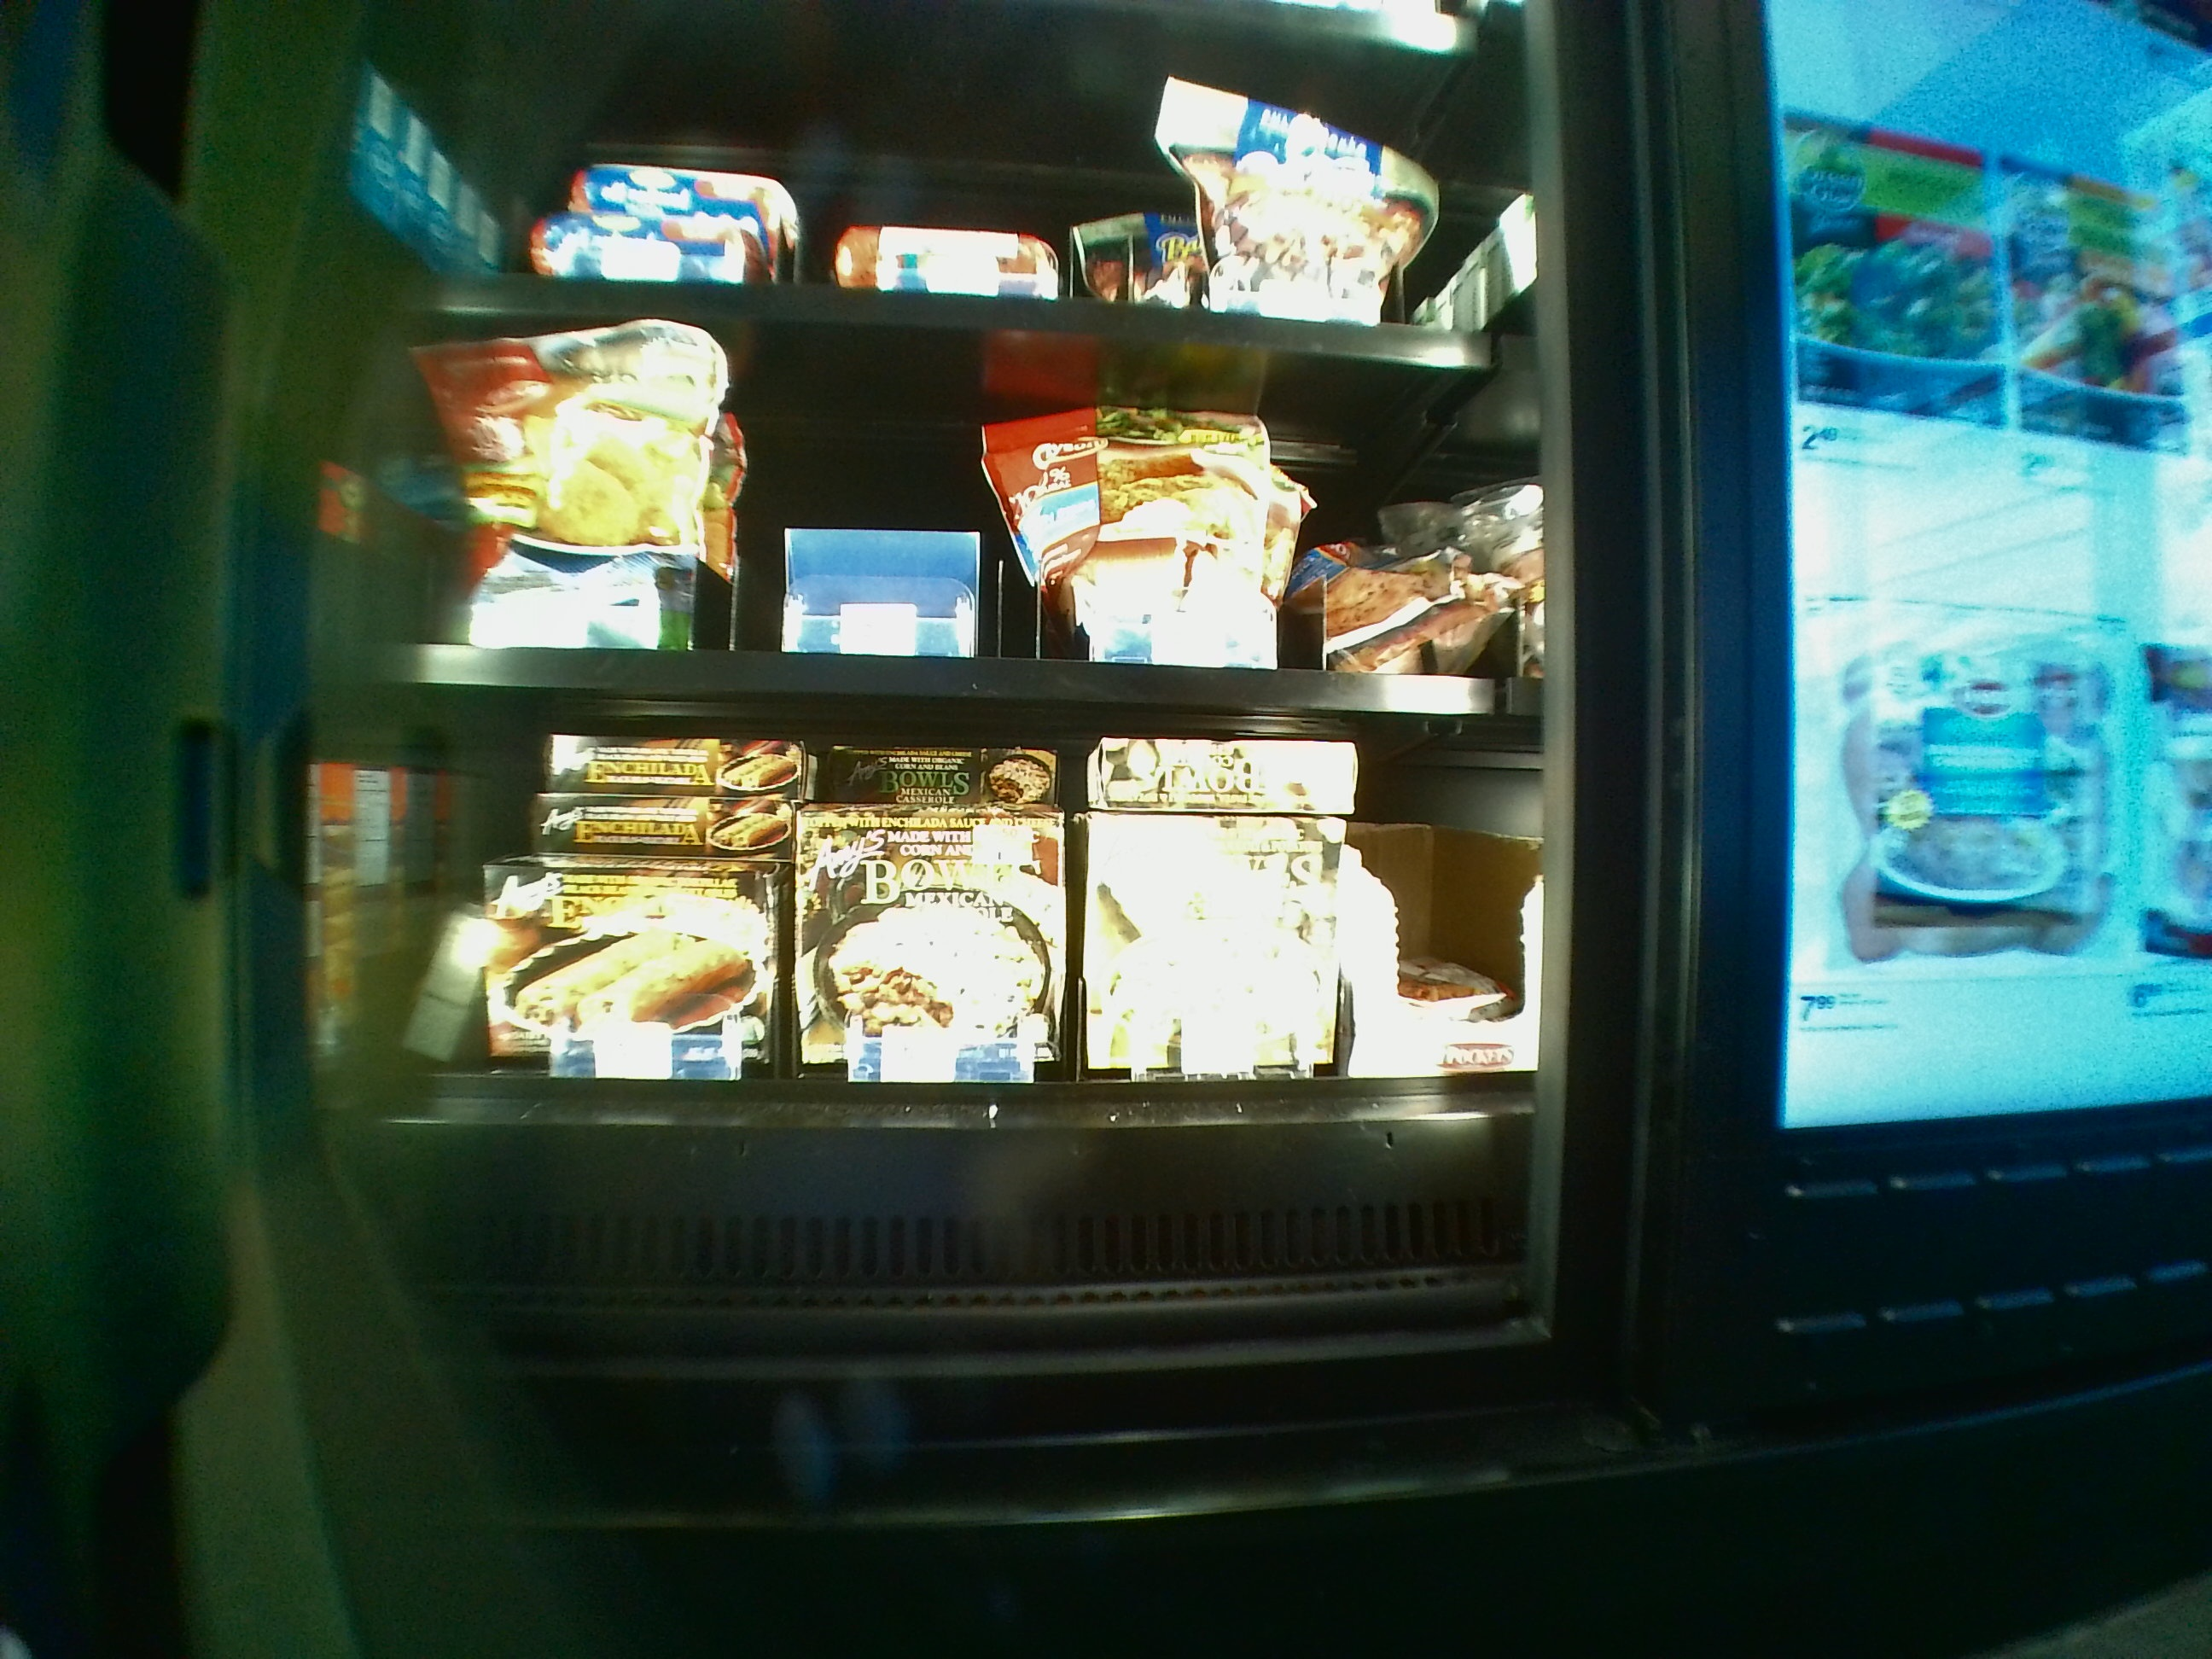shelf: (319, 721, 1538, 1331), (329, 317, 1533, 708)
